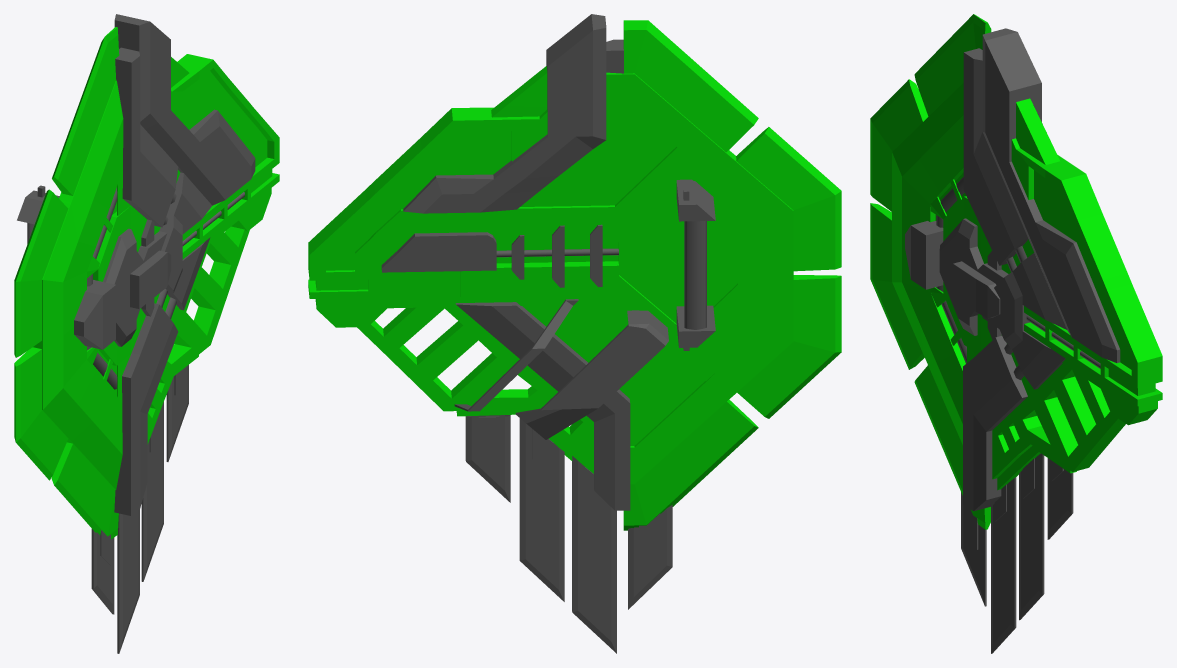
File: Shield_01.fbx
3 renders of one model, left to right at view 1: azimuth 30°, elevation 25°; view 2: azimuth 150°, elevation 25°; view 3: azimuth 270°, elevation 25°, orthographic.
Visible parts, largest first — view 1: Shield_01; view 2: Shield_01; view 3: Shield_01.
Boxes of the visible parts, left/top/right/bottom form: Shield_01: left=14, top=14, right=279, bottom=653; Shield_01: left=308, top=14, right=841, bottom=653; Shield_01: left=870, top=14, right=1162, bottom=653.
Size of the model in its own units: 4.69 by 7.09 by 2.99.
